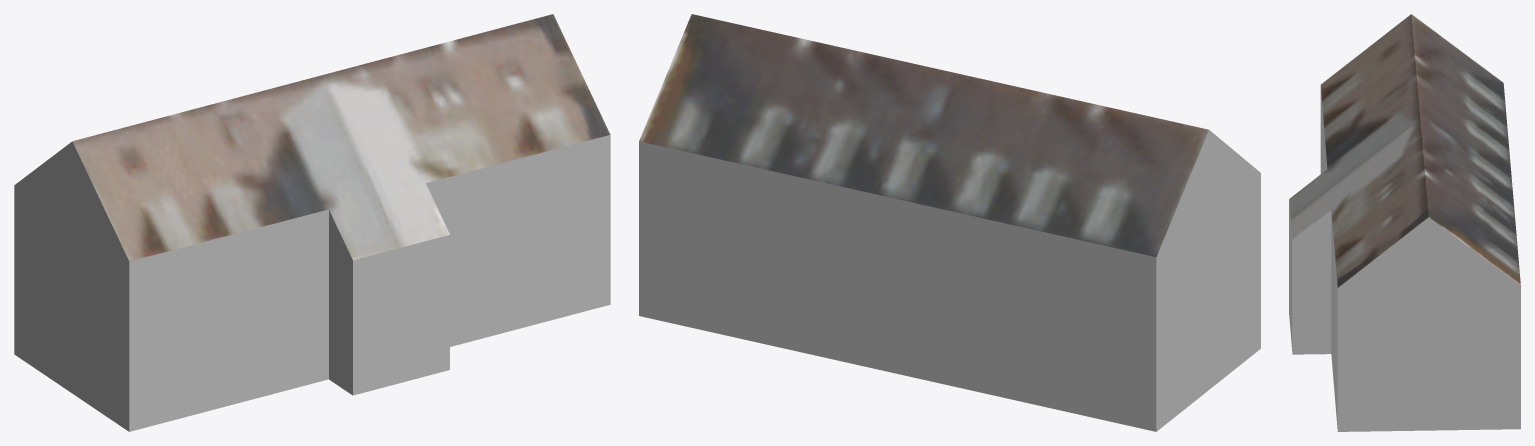
The model's file is DEBW_0010007Tvkq.gltf.
3 views of the same model, side by side, from view 1: azimuth 30°, elevation 25°; view 2: azimuth 150°, elevation 25°; view 3: azimuth 270°, elevation 25° (orthographic). The views are drawn at different scales.
Parts seen in each view (by area): view 1: Z_UP; view 2: Z_UP; view 3: Z_UP.
Part boxes in pixels (box(x1,y1,x2,y2)): Z_UP: box(14, 14, 610, 431); Z_UP: box(639, 14, 1260, 431); Z_UP: box(1289, 14, 1520, 431).
Bounding box in the file's own units: 28.82 × 13.95 × 13.72.
Materials: 2 (1 with a texture image).
